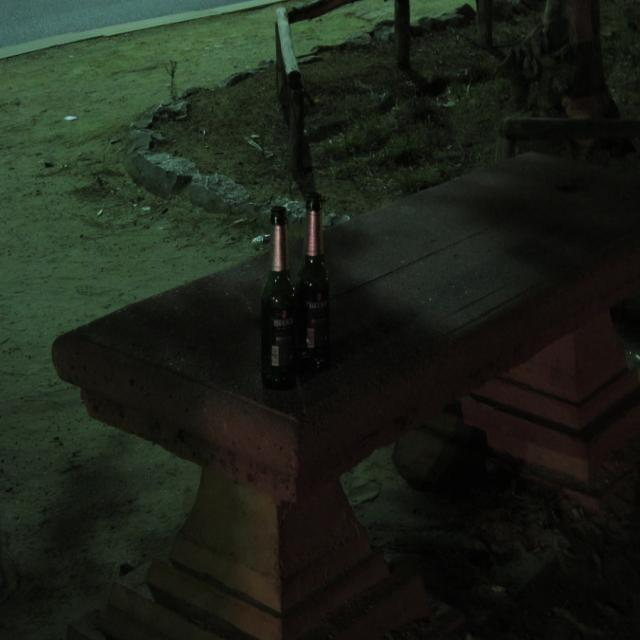Bottle: (299, 198, 352, 393), (250, 197, 299, 388)
chair: (0, 124, 640, 603)
